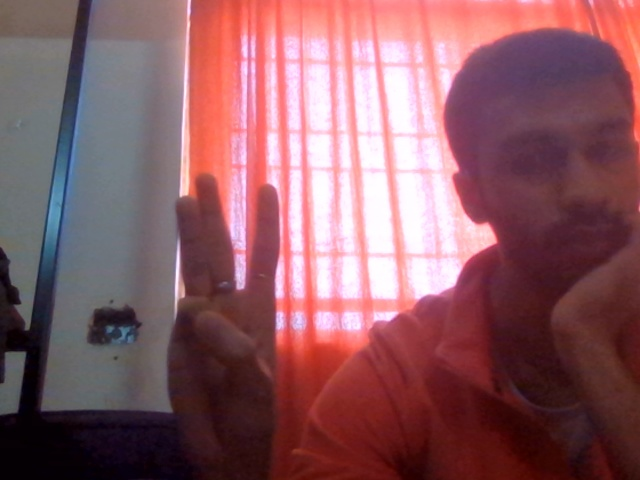W: (137, 150, 352, 480)
